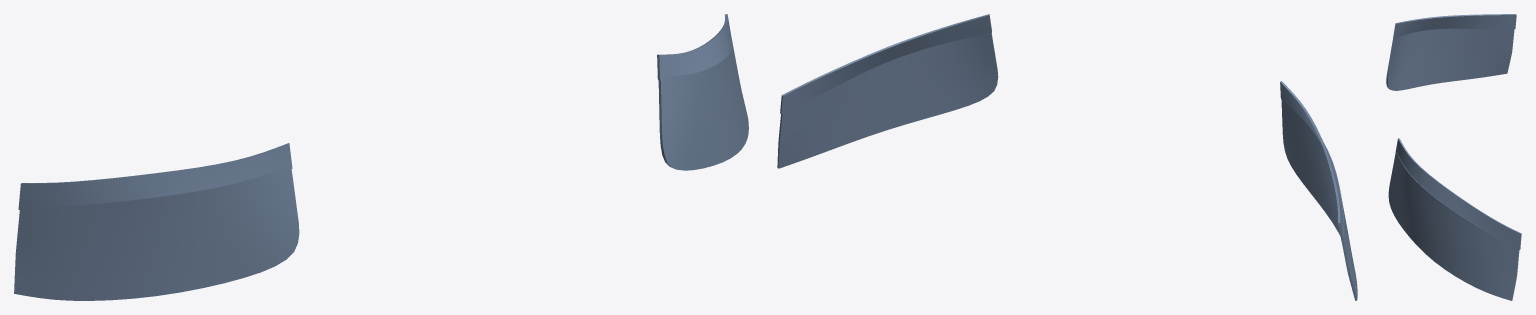
Rendered from SM_CarlosSA_Jacket_WaistPockets_SlantedFlap.fbx.
3 renders of one model, left to right at view 1: azimuth 30°, elevation 25°; view 2: azimuth 150°, elevation 25°; view 3: azimuth 270°, elevation 25°, orthographic. The views are drawn at different scales.
Visible parts, largest first — view 1: SM_CarlosSA_Jacket_WaistPockets_SlantedFlap; view 2: SM_CarlosSA_Jacket_WaistPockets_SlantedFlap; view 3: SM_CarlosSA_Jacket_WaistPockets_SlantedFlap.
Part boxes in pixels (left/top/right/bottom): SM_CarlosSA_Jacket_WaistPockets_SlantedFlap: left=14, top=14, right=748, bottom=300; SM_CarlosSA_Jacket_WaistPockets_SlantedFlap: left=777, top=14, right=1357, bottom=300; SM_CarlosSA_Jacket_WaistPockets_SlantedFlap: left=1386, top=14, right=1521, bottom=300.
Bounding box in the file's own units: 0.3558 × 0.0819 × 0.091.
